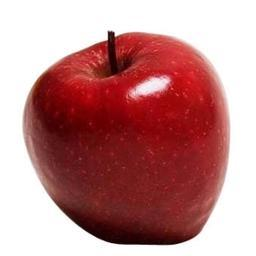apple: (21, 30, 228, 243)
